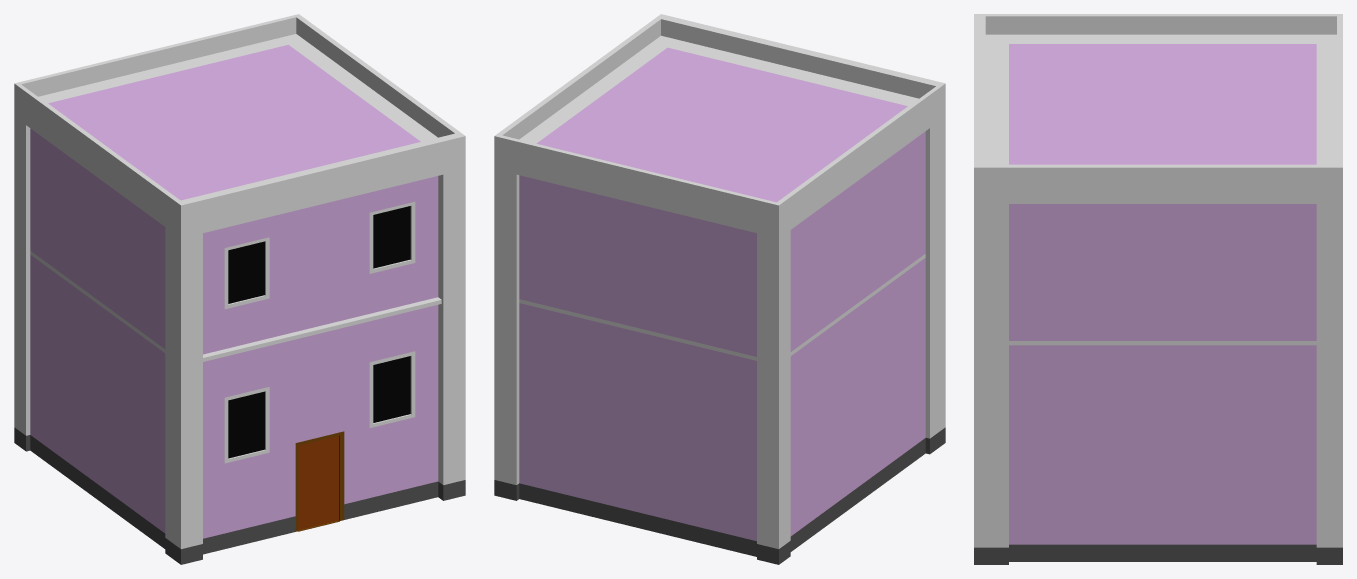
The model's file is Homic.fbx.
The picture shows the model from 3 angles, left to right: view 1: azimuth 30°, elevation 25°; view 2: azimuth 150°, elevation 25°; view 3: azimuth 270°, elevation 25°; orthographic projection. The views are drawn at different scales.
Parts seen in each view (by area): view 1: Cube; view 2: Cube; view 3: Cube.
Part boxes in pixels (left/top/right/bottom): Cube: left=14, top=14, right=465, bottom=564; Cube: left=494, top=14, right=945, bottom=564; Cube: left=974, top=14, right=1342, bottom=564.
Bounding box in the file's own units: 986 × 1191 × 1000.
